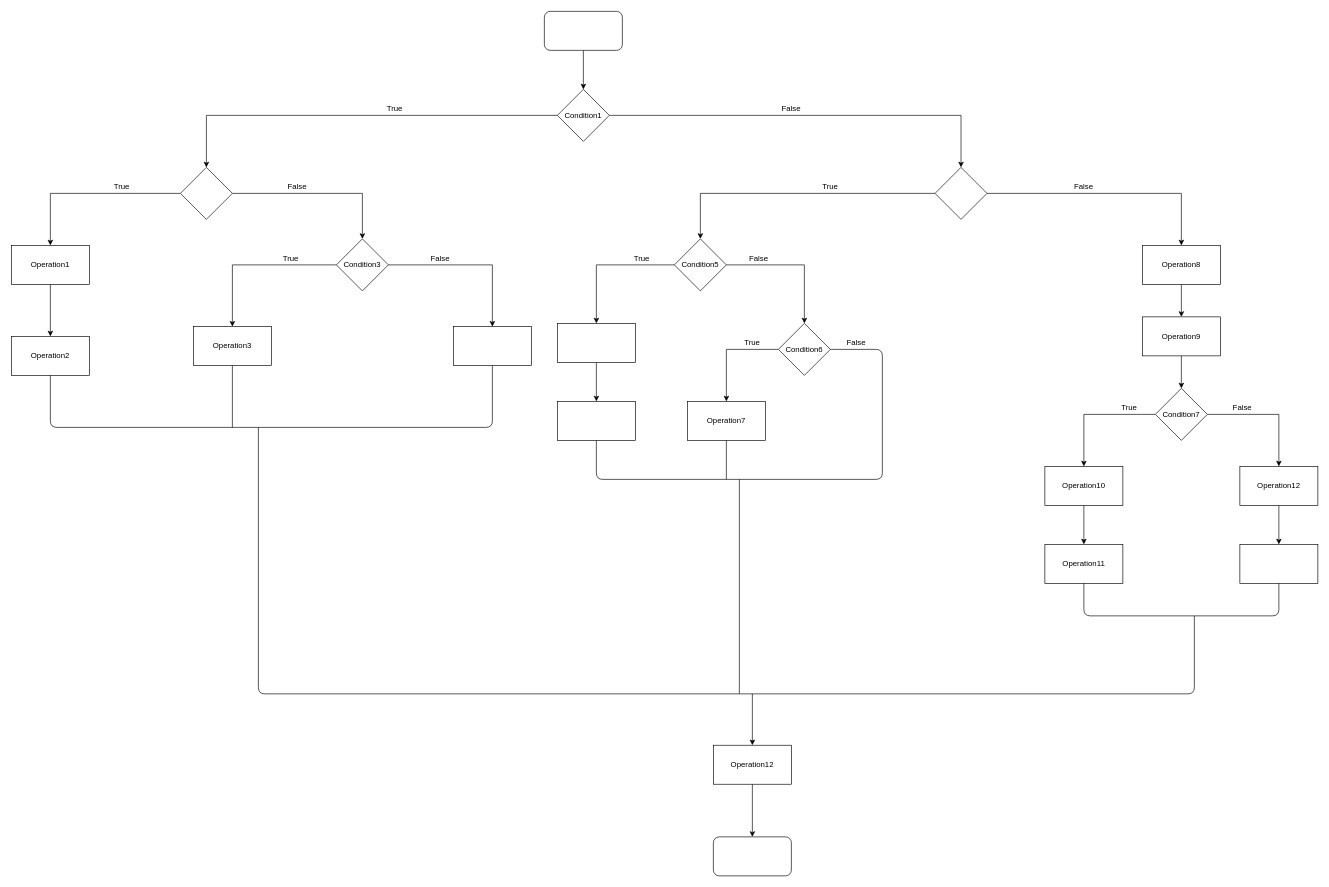
This 1329x887 diagram has some shape labels left out. The centre of each missing label's shape, as x and y in pixels:
"Condition2" belongs at (x=206, y=193).
"Condition4" belongs at (x=960, y=193).
"End" belongs at (x=752, y=856).
"Operation13" belongs at (x=1278, y=563).
"Operation4" belongs at (x=492, y=346).
"Operation5" belongs at (x=596, y=342).
"Operation6" belongs at (x=596, y=420).
"Start" belongs at (x=583, y=30).
